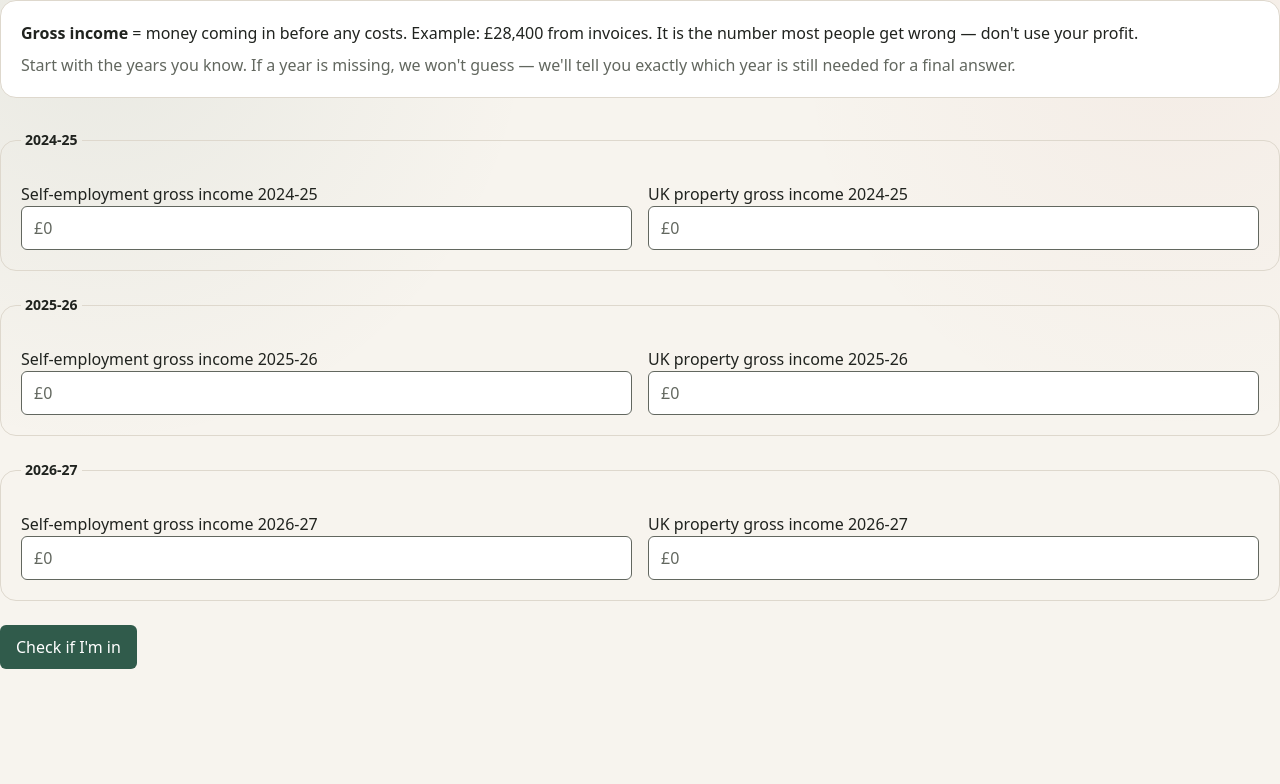
eligibility form › shows below-threshold only after every phased year is measured
The image size is (1280, 784).
In the field labelled "Self-employment gross income 2024-25": point(326, 228) x1=21 y1=206 x2=632 y2=250, type "15000"
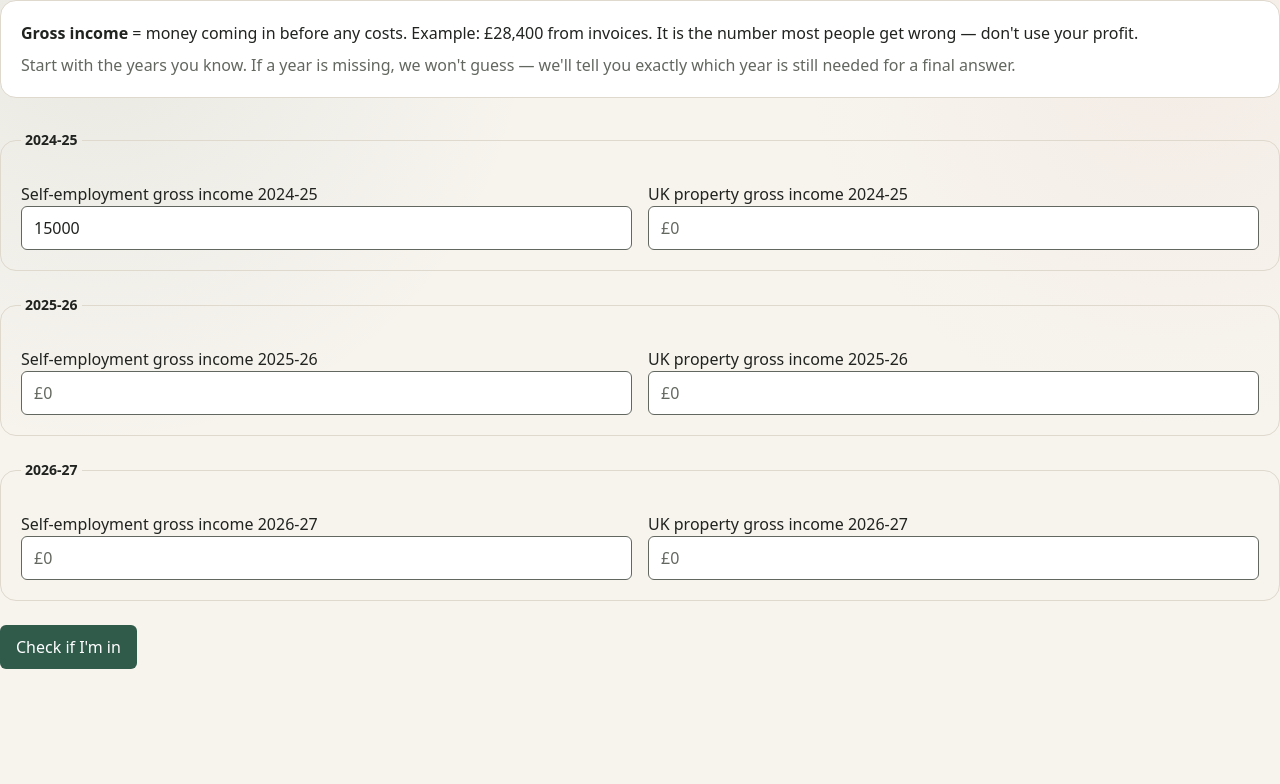
In the field labelled "Self-employment gross income 2025-26": point(326, 393) x1=21 y1=371 x2=632 y2=415, type "0"
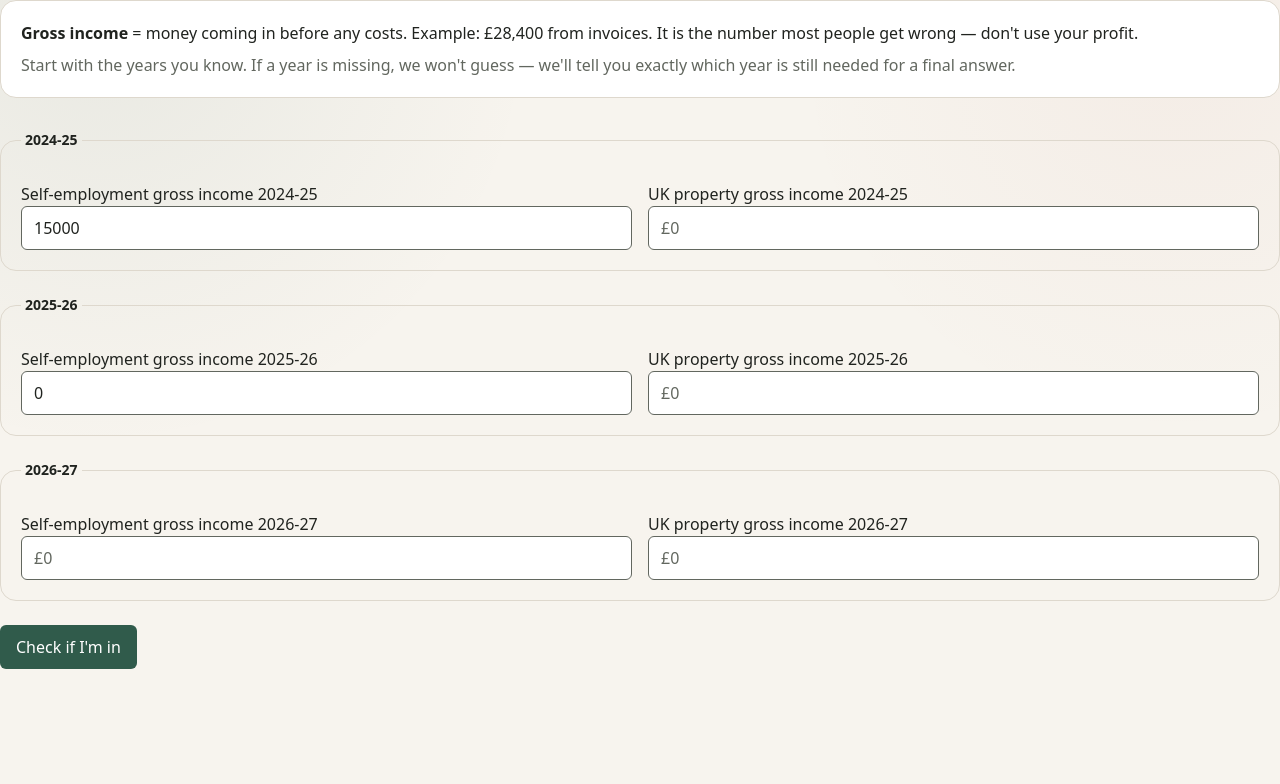
In the field labelled "Self-employment gross income 2026-27": point(326, 558) x1=21 y1=536 x2=632 y2=580, type "0"
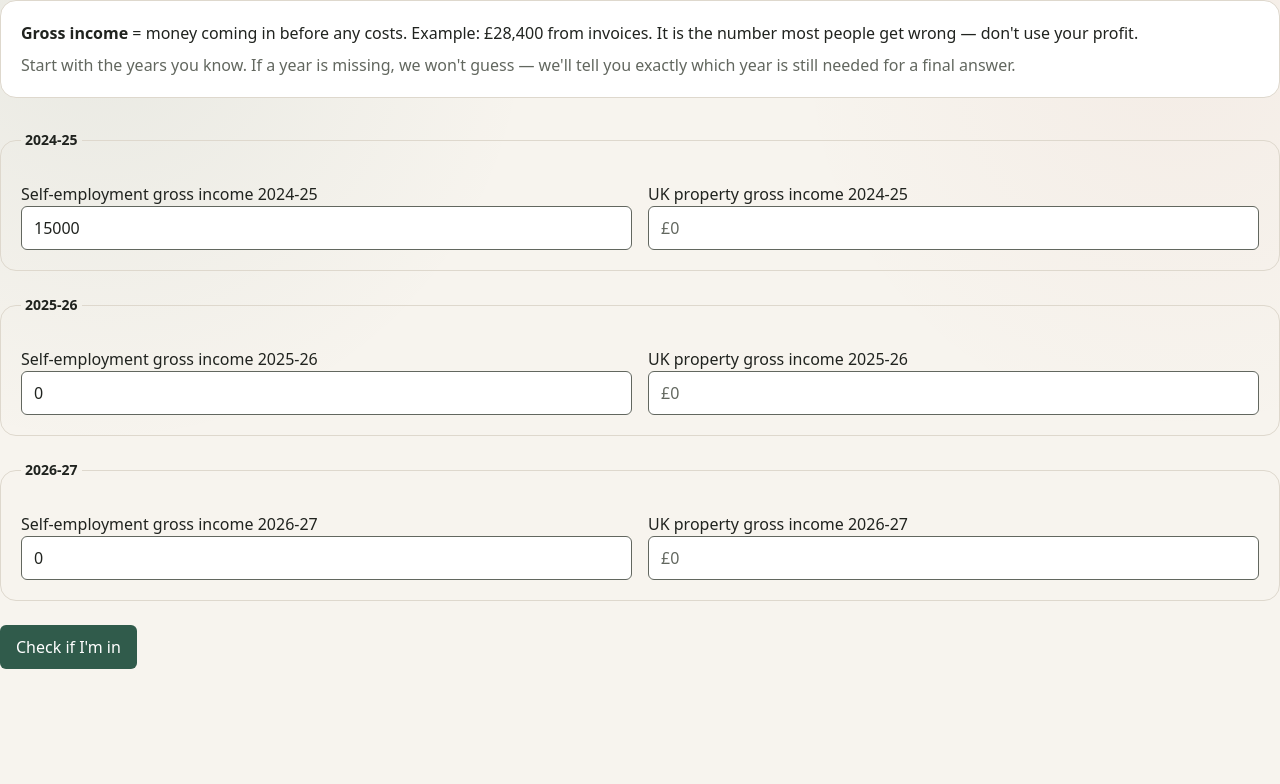
Click the button "Check if I'm in": point(68, 647) x1=0 y1=625 x2=137 y2=669
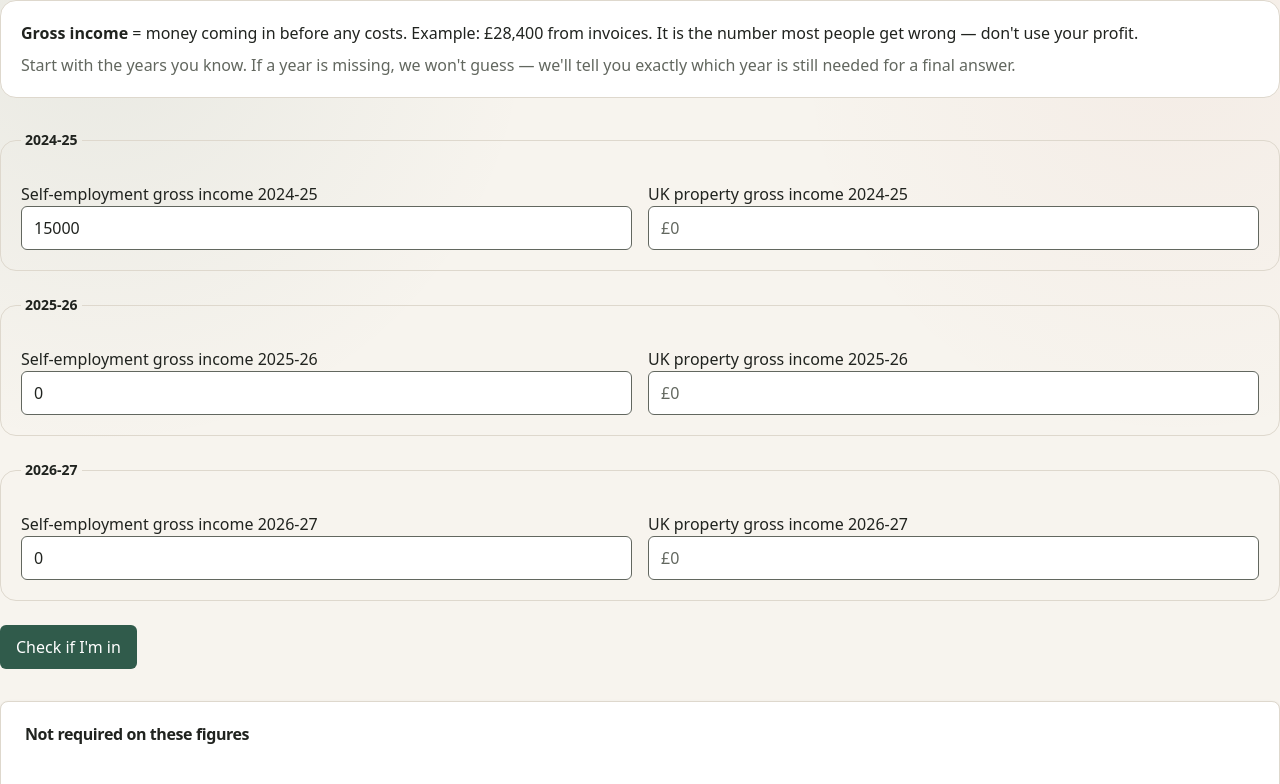
expect the heading "Not required on these figures" is shown: met, box x1=25 y1=723 x2=249 y2=745
